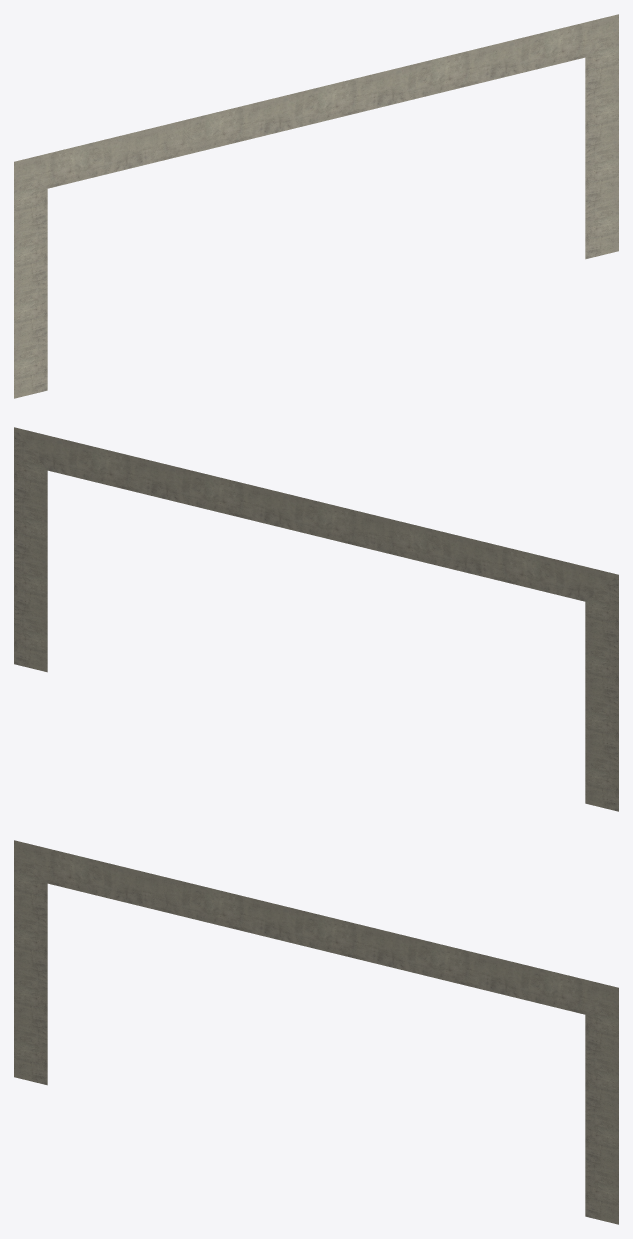
Rendered from GSDTunnel-2L-Cap.FBX.
3 views of the same model, one above another, from view 1: azimuth 30°, elevation 25°; view 2: azimuth 150°, elevation 25°; view 3: azimuth 330°, elevation 25° (orthographic).
Parts seen in each view (by area): view 1: GSDTunnel-2L-Cap; view 2: GSDTunnel-2L-Cap; view 3: GSDTunnel-2L-Cap.
Part boxes in pixels (left/top/right/bottom): GSDTunnel-2L-Cap: left=14, top=14, right=618, bottom=398; GSDTunnel-2L-Cap: left=14, top=427, right=618, bottom=811; GSDTunnel-2L-Cap: left=14, top=840, right=618, bottom=1224.
Bounding box in the file's own units: 18 × 6.74 × 3.01e-06.
